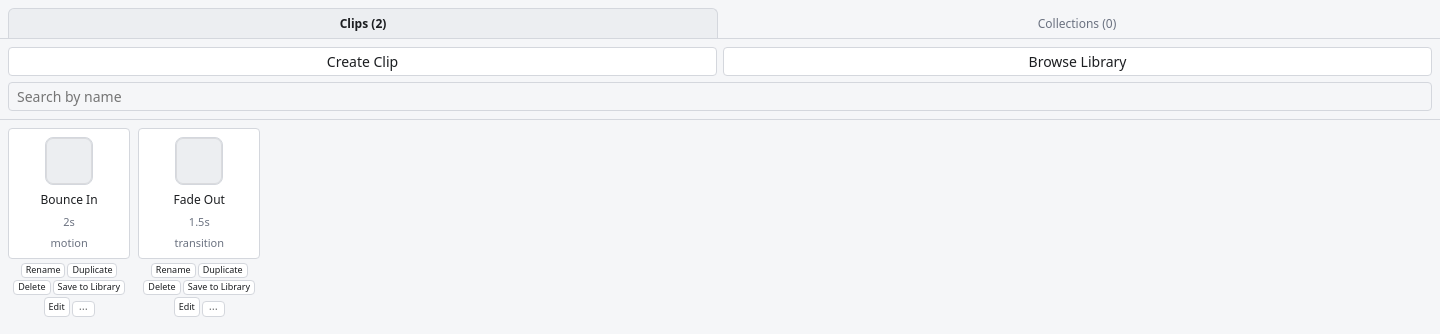
Test: AnimationsPanel › duplicates a clip with a suffixed name and shows both in the grid
Check: the text "Bounce In" is shown, box [41,191,98,208]
Step 1. Click the button with aria-label "Duplicate Bounce In" → click(92, 270), box [68,263,118,278]
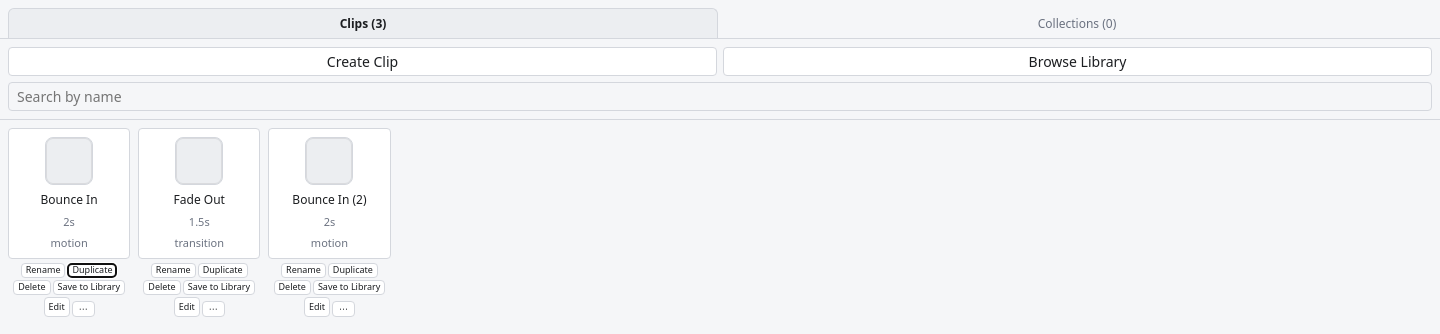
Check: the text "Bounce In" is shown, box [41,191,98,208]
Check: the text "Bounce In (2)" is shown, box [292,191,366,208]
